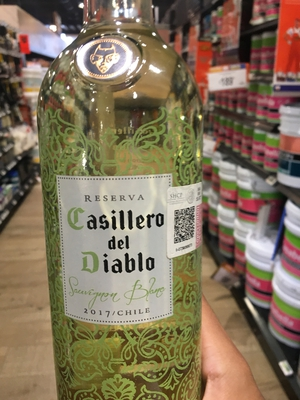casillero del diablo sauvignon blanc: (42, 18, 217, 400)
